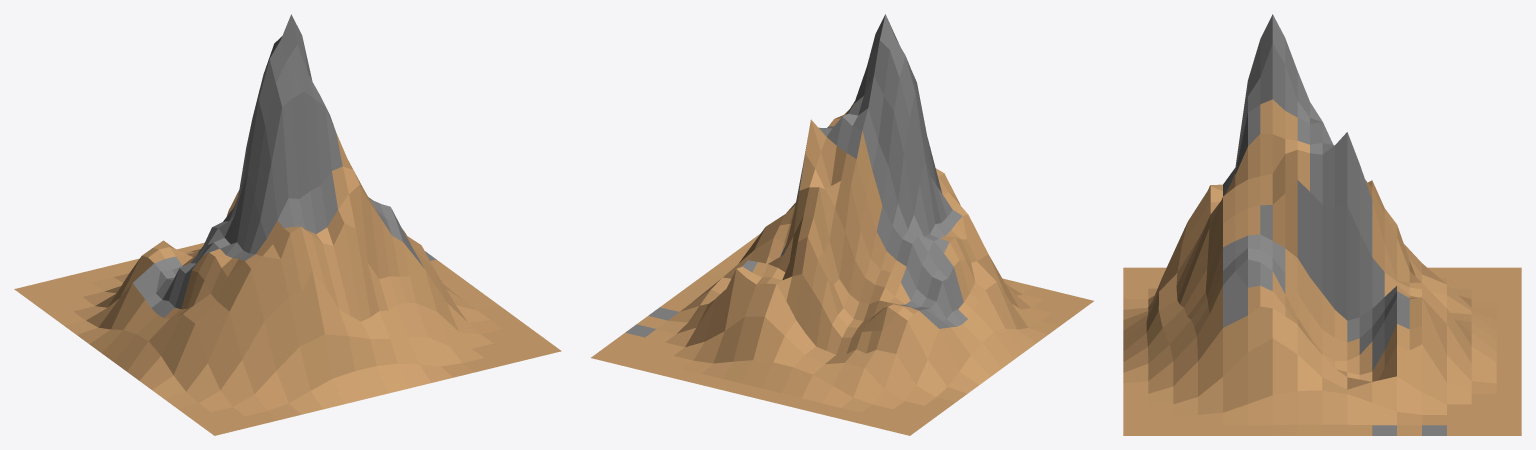
File: Mountain 001.fbx
3 views of the same model, side by side, from view 1: azimuth 30°, elevation 25°; view 2: azimuth 150°, elevation 25°; view 3: azimuth 270°, elevation 25° (orthographic). The views are drawn at different scales.
Visible parts, largest first — view 1: Plane.001; view 2: Plane.001; view 3: Plane.001.
Part boxes in pixels (box(x1,y1,x2,y2)): Plane.001: box(14, 14, 561, 435); Plane.001: box(591, 14, 1093, 435); Plane.001: box(1123, 14, 1521, 435).
Bounding box in the file's own units: 27526 × 24976 × 27526.
